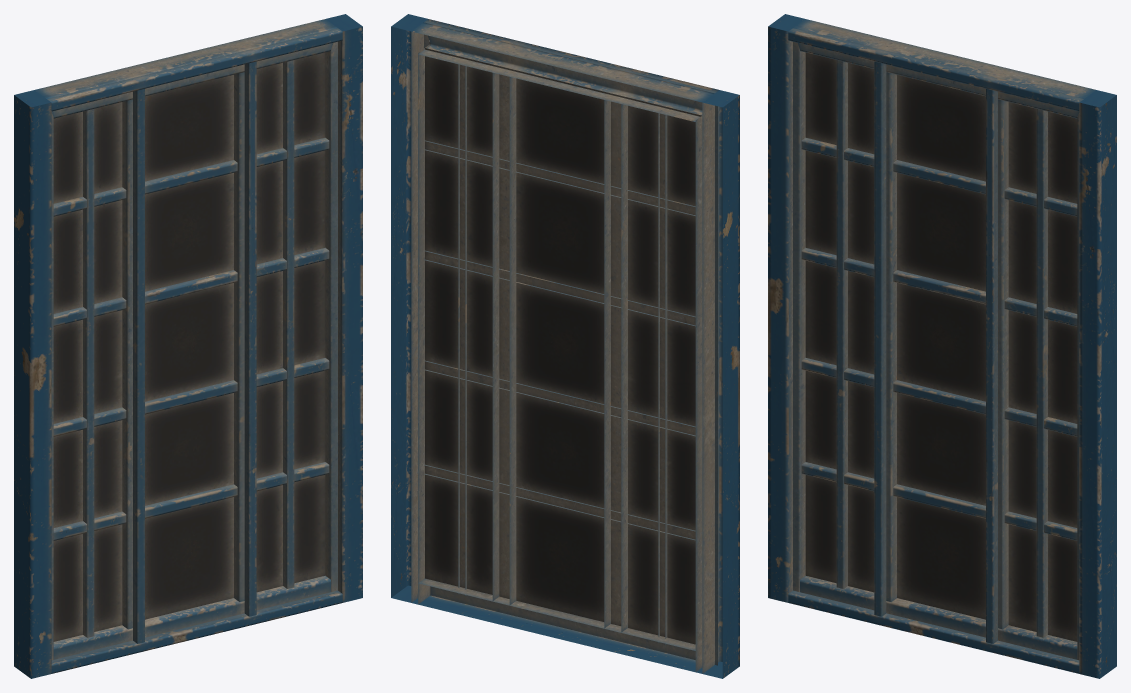
The model's file is SM_WindowBottom.FBX.
The picture shows the model from 3 angles, left to right: view 1: azimuth 30°, elevation 25°; view 2: azimuth 150°, elevation 25°; view 3: azimuth 330°, elevation 25°; orthographic projection.
Parts seen in each view (by area): view 1: SM_WindowBottom; view 2: SM_WindowBottom; view 3: SM_WindowBottom.
Boxes of the visible parts, x1=… form: SM_WindowBottom: x1=14, y1=14, x2=362, y2=678; SM_WindowBottom: x1=391, y1=14, x2=739, y2=678; SM_WindowBottom: x1=768, y1=14, x2=1116, y2=678.
Bounding box in the file's own units: 234 × 21.03 × 386.
